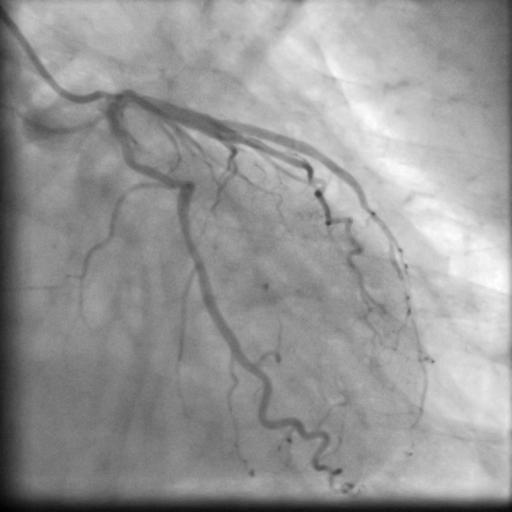Stenosis: (147, 165, 189, 190)
